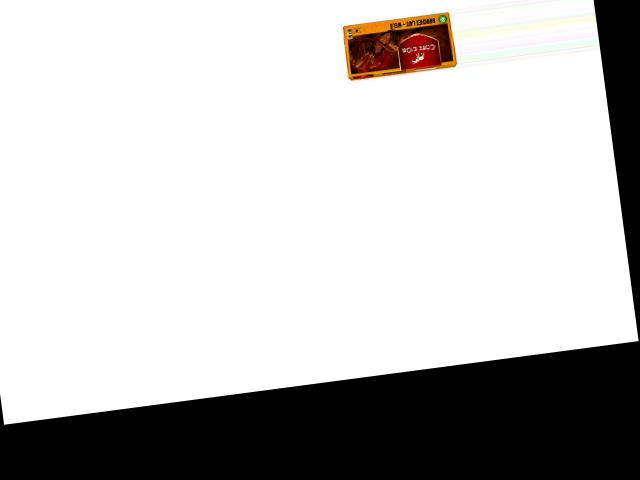chocolate: (338, 2, 457, 83)
